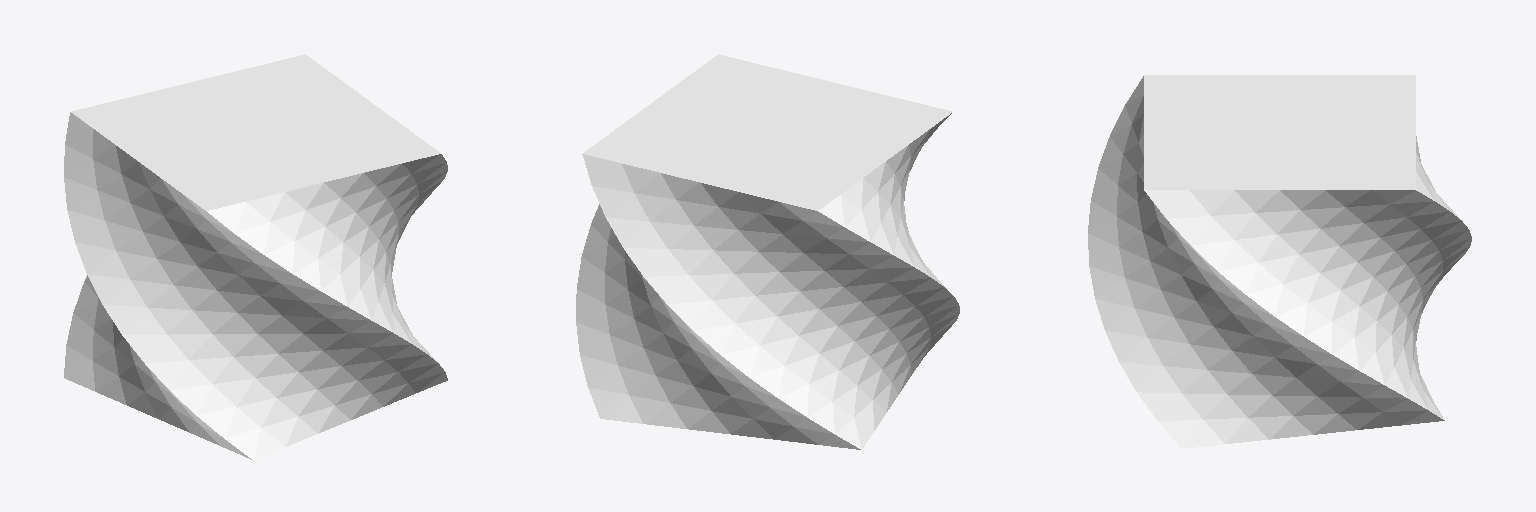
The picture shows the model from 3 angles: view 1: azimuth 30°, elevation 25°; view 2: azimuth 150°, elevation 25°; view 3: azimuth 270°, elevation 25°; orthographic projection.
Parts seen in each view (by area): view 1: ZBrushMesh3D; view 2: ZBrushMesh3D; view 3: ZBrushMesh3D.
Part boxes in pixels (x1,y1,x2,y2): ZBrushMesh3D: (64, 54, 447, 459); ZBrushMesh3D: (576, 54, 959, 449); ZBrushMesh3D: (1088, 75, 1471, 448).
Size of the model in its own units: 2.83 by 2 by 2.83.
Materials: 1 (1 with a texture image).